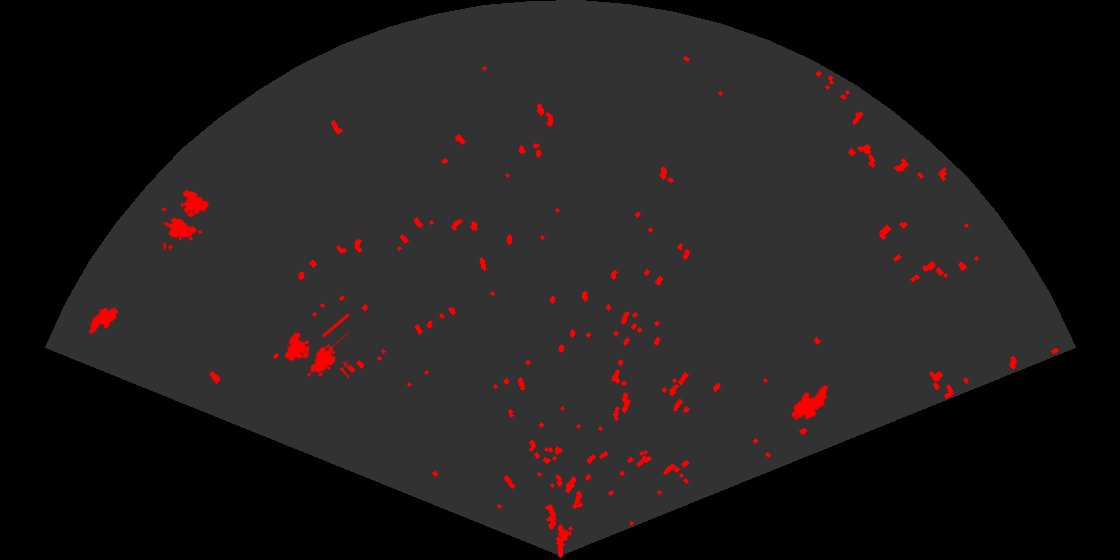AUV: (789, 383, 830, 422), (87, 306, 120, 336)
cage: (283, 314, 349, 381), (162, 188, 211, 250)
